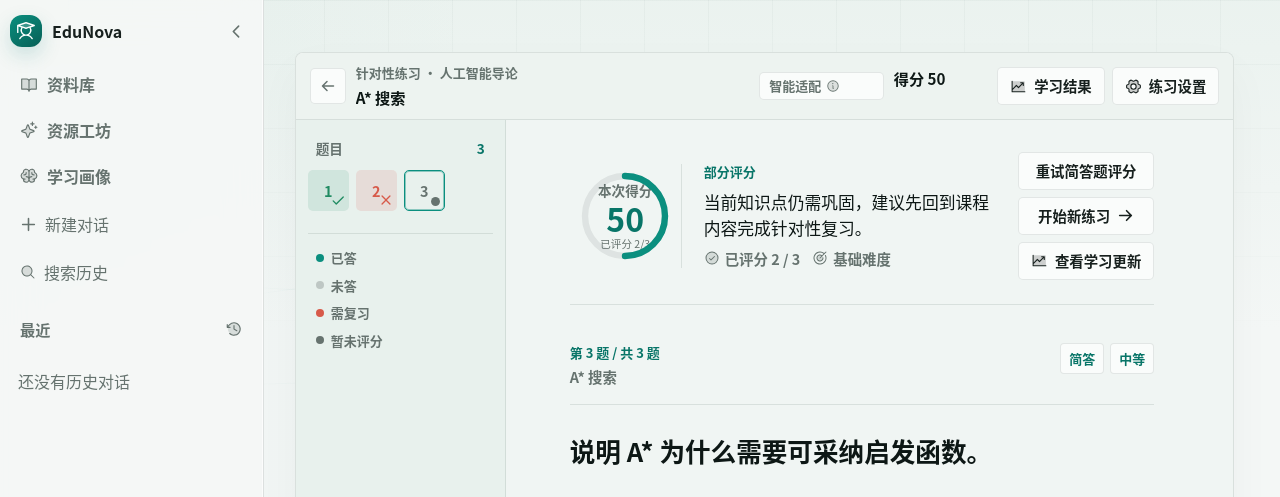
Test case: PracticePage › shows ungraded short answers without a red error state and can retry grading
Expected: the text "部分评分" is shown, [704,162,756,181]
Expected: the text "已评分 2 / 3" is shown, [704,248,800,269]
Click the button "重试简答题评分" at (1086, 171), box [1018,152,1154,190]
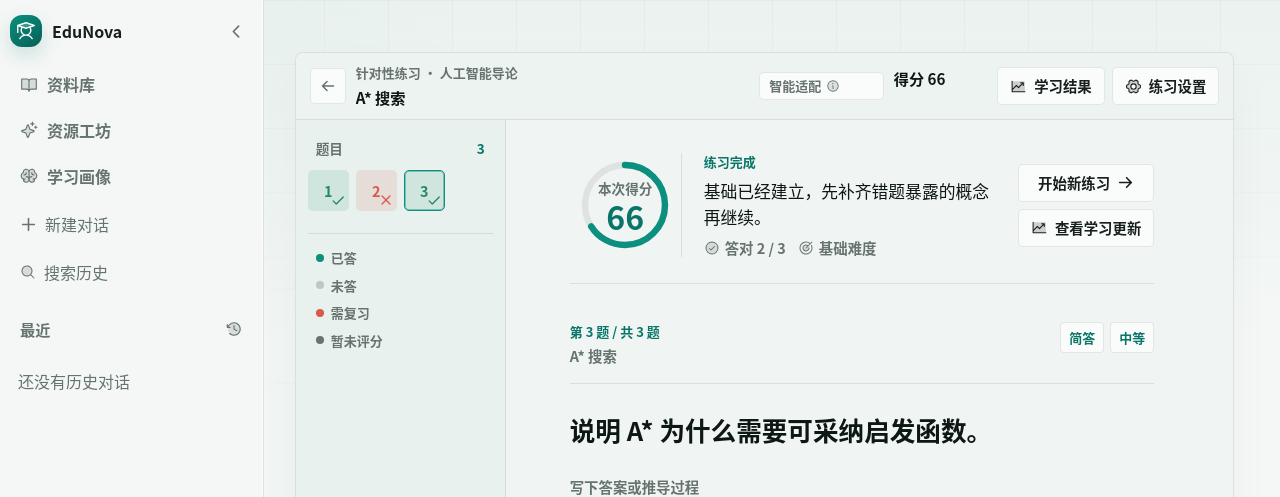
Expected: the button "重试简答题评分" is gone
